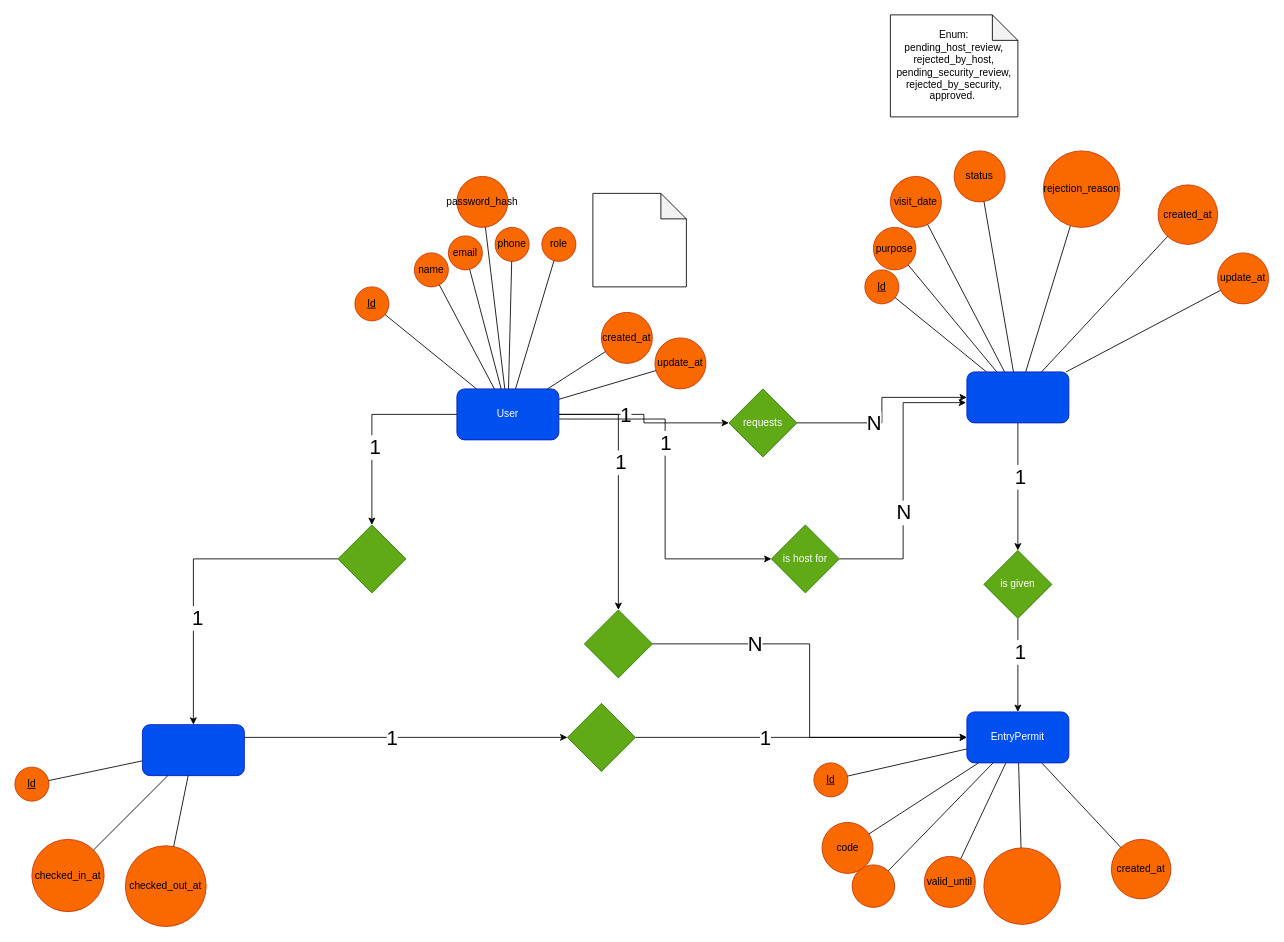
Some shapes in this 1284 by 942 pixel diagram are drawn without their labels. The shapes that lost their labels are listed below. From the top down, each one's box as (x1, y1, x2, y2) in pixels, then its label:
(592, 193, 686, 287): Role: guest, host, security, admin
(966, 371, 1069, 423): VistiRequest
(337, 524, 406, 593): recorded by
(584, 609, 652, 678): issued by
(142, 724, 244, 776): TrafficLog
(567, 703, 635, 771): has permit
(851, 864, 895, 907): valid_from
(983, 847, 1060, 924): is_used
